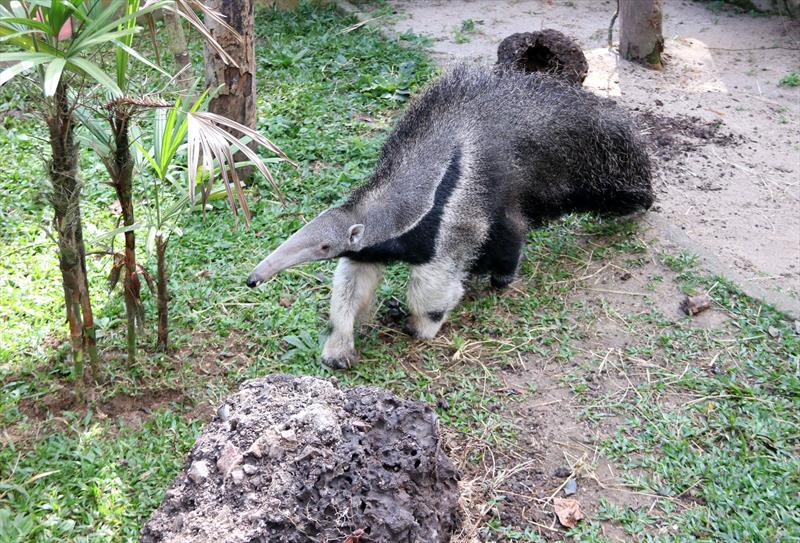TamanduaBandeira: (238, 58, 657, 371)
